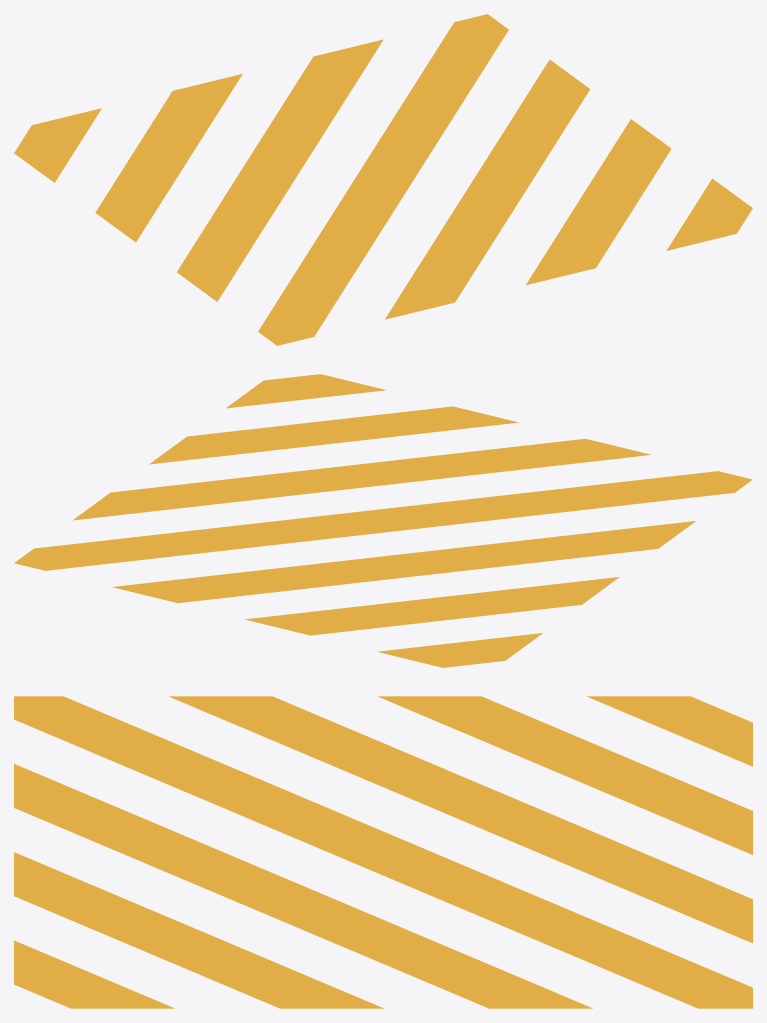
File: indicator-special-lines.glb
3 renders of one model, top to bottom at view 1: azimuth 30°, elevation 25°; view 2: azimuth 150°, elevation 25°; view 3: azimuth 270°, elevation 25°, orthographic. The views are drawn at different scales.
Parts seen in each view (by area): view 1: indicator-special-lines; view 2: indicator-special-lines; view 3: indicator-special-lines.
Part boxes in pixels (x1,y1,x2,y2): indicator-special-lines: (14, 14, 752, 345); indicator-special-lines: (14, 374, 752, 667); indicator-special-lines: (14, 696, 752, 1008).
Bounding box in the file's own units: 1 × 0 × 1.
1 material, 1 textured.
